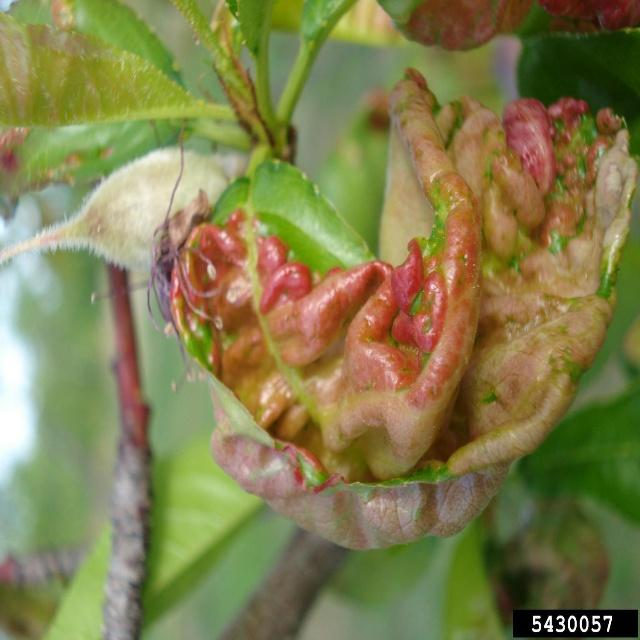leaf_curl: (139, 93, 619, 551)
